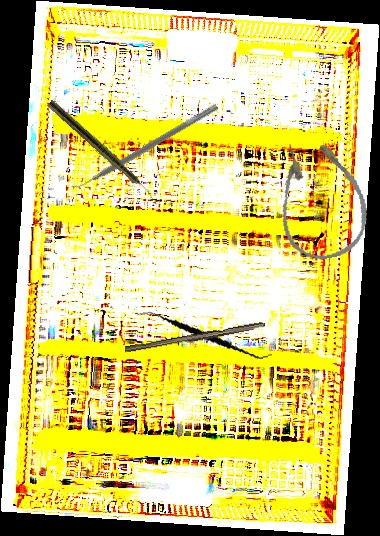Cannula: (266, 130, 376, 267)
Handpiece: (45, 98, 159, 203)
Scalpel Handle: (124, 319, 266, 357)
Spatula Surgical: (69, 97, 219, 195), (138, 288, 273, 381)
